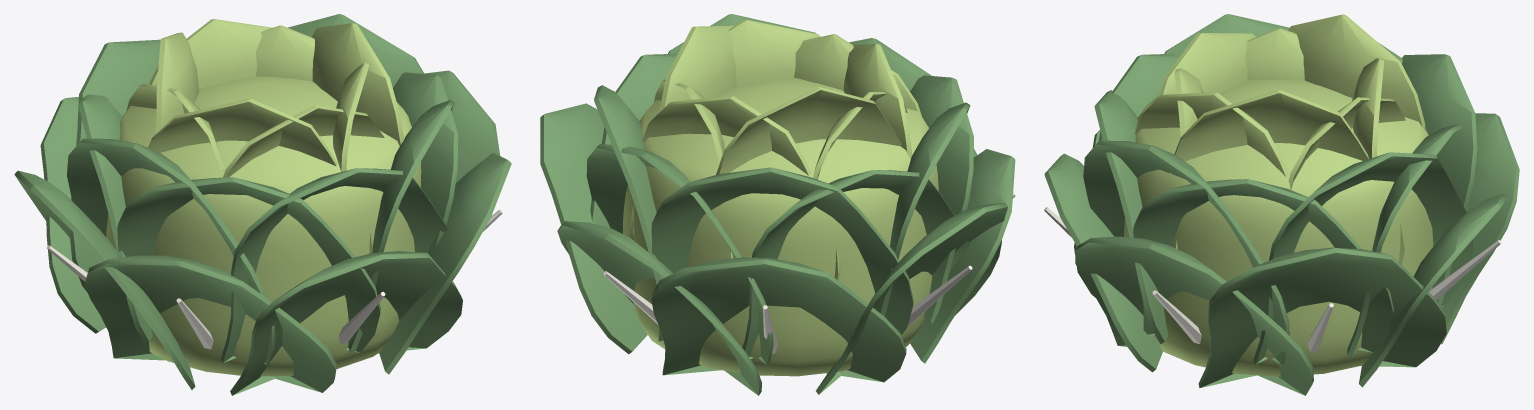
File: fresh-produce-and-groceries-cabbage-green-0fc7257d__24364.glb
3 views of the same model, side by side, from view 1: azimuth 30°, elevation 25°; view 2: azimuth 150°, elevation 25°; view 3: azimuth 270°, elevation 25° (orthographic).
Visible parts, largest first — view 1: cabbage-green; view 2: cabbage-green; view 3: cabbage-green.
Boxes of the visible parts, x1=… form: cabbage-green: x1=14, y1=14, x2=511, y2=395; cabbage-green: x1=540, y1=14, x2=1015, y2=395; cabbage-green: x1=1044, y1=14, x2=1519, y2=395.
Size of the model in its own units: 0.2393 by 0.1599 by 0.2279.
